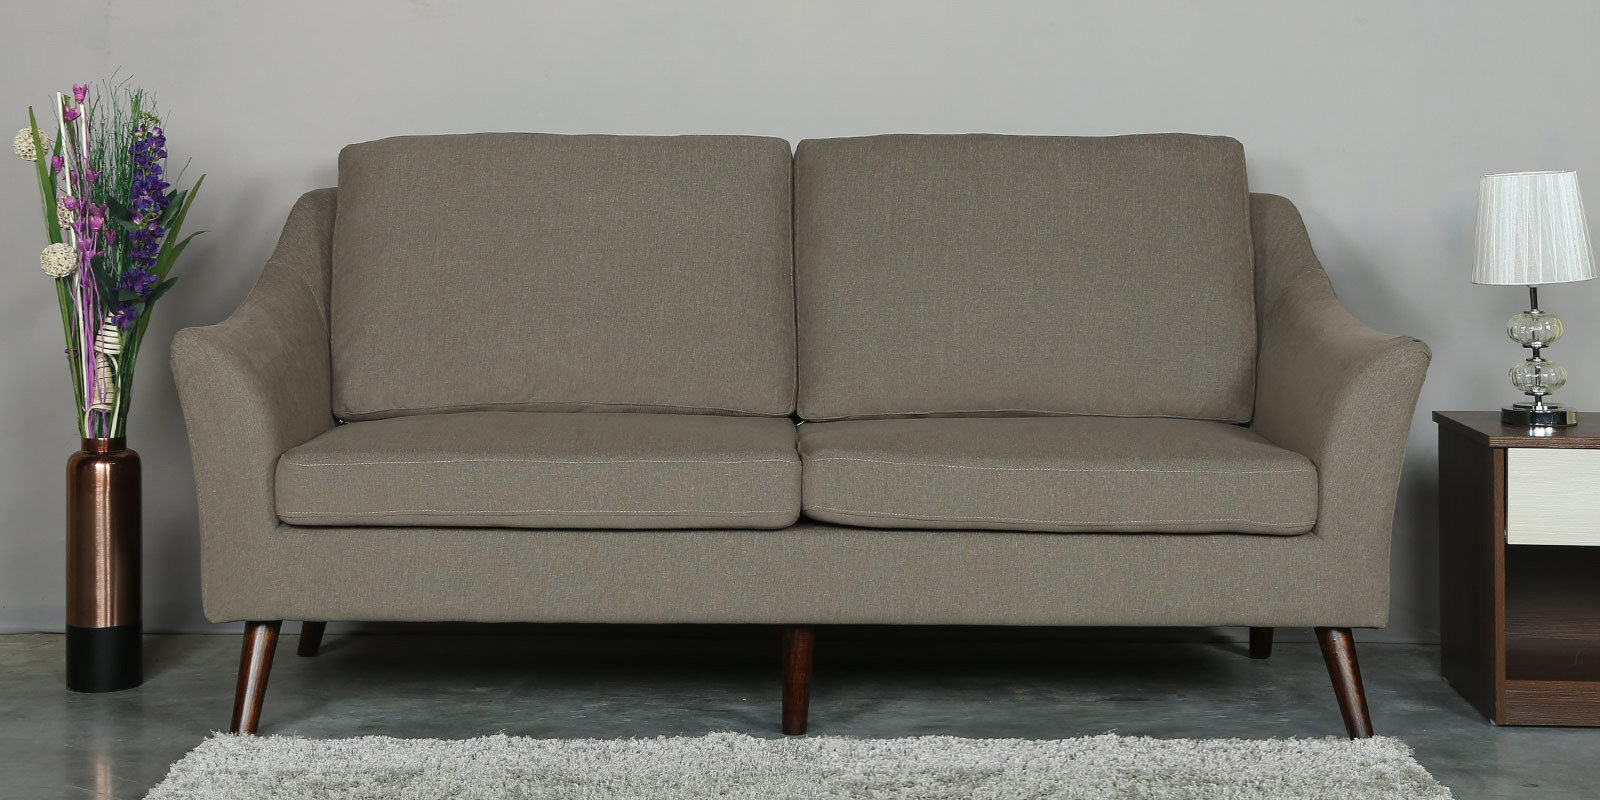Juan Three Seater Sofs in Sandy Brown Colour by CasaCraft: (167, 129, 1434, 737)
